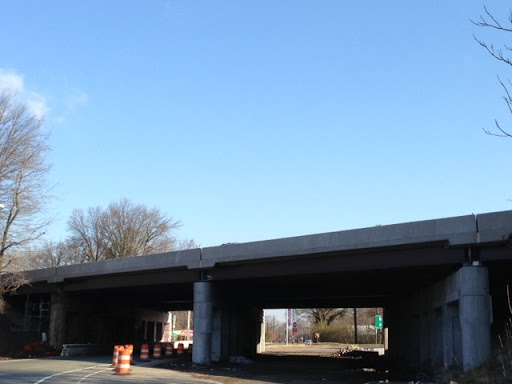bridge: (1, 207, 509, 311)
